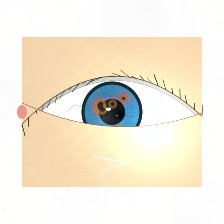foreign_body_visible: (116, 92, 132, 105)
